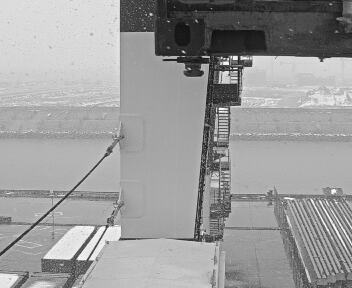twist_lock_1: (170, 50, 216, 84)
